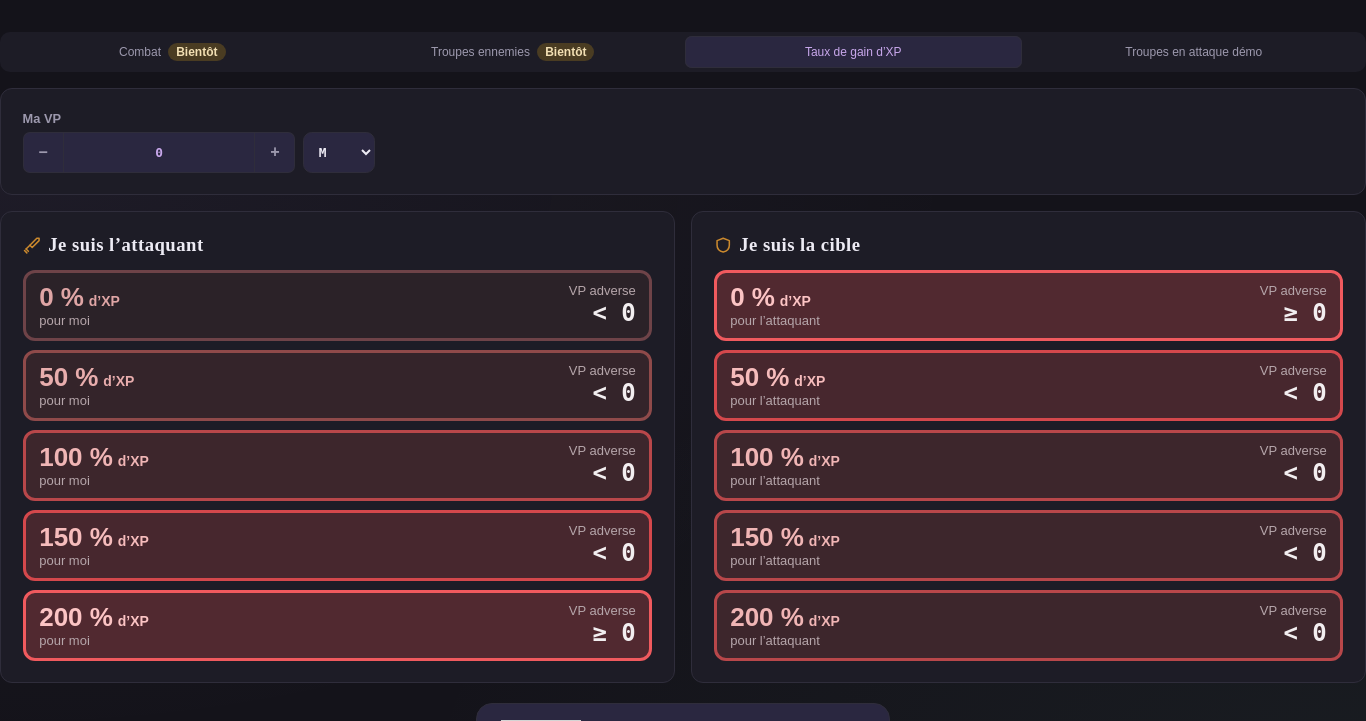
Test: Bloc 117: the demo heading loses what the chip already says › keeps the heading, and the chip's short form, at a phone width
Step 1. Click the tab "Troupes en attaque démo" → (1194,52), box top-left (1026, 36), bottom-right (1362, 68)
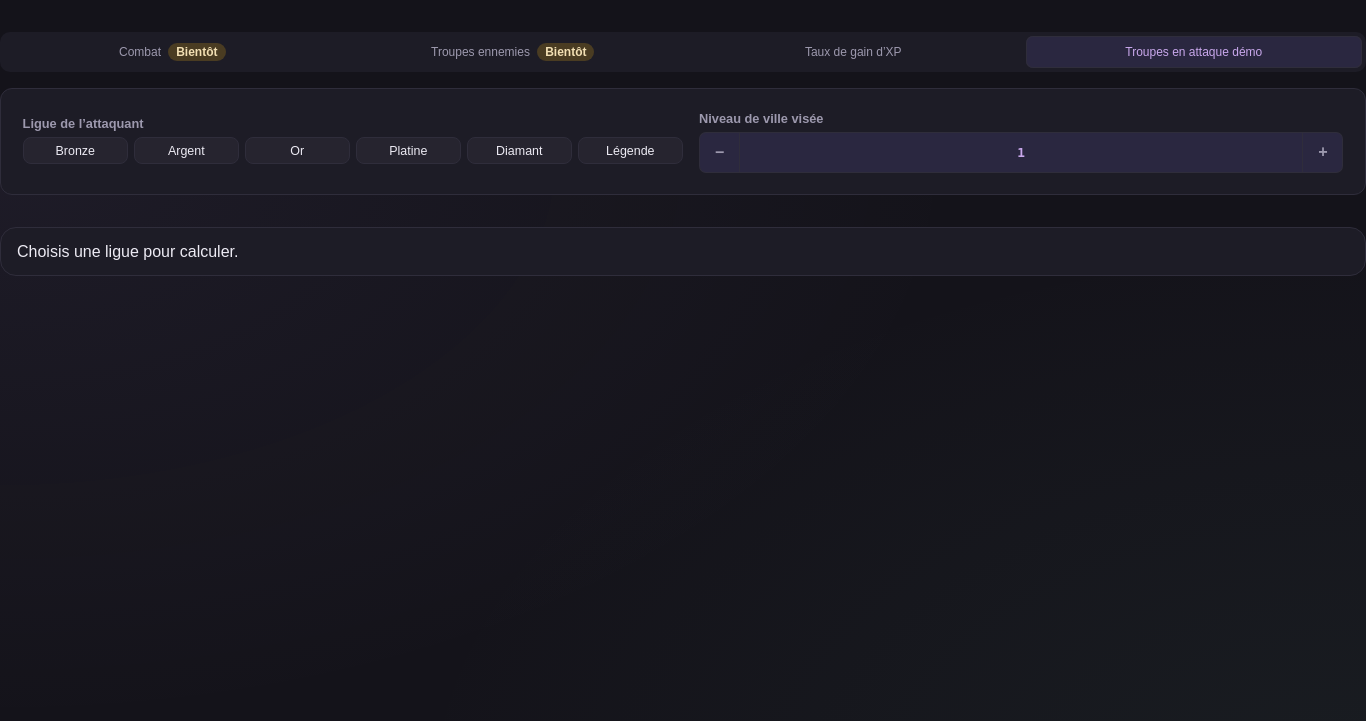
Step 2. Click the button "Diamant" → (519,151), box top-left (467, 137), bottom-right (572, 164)
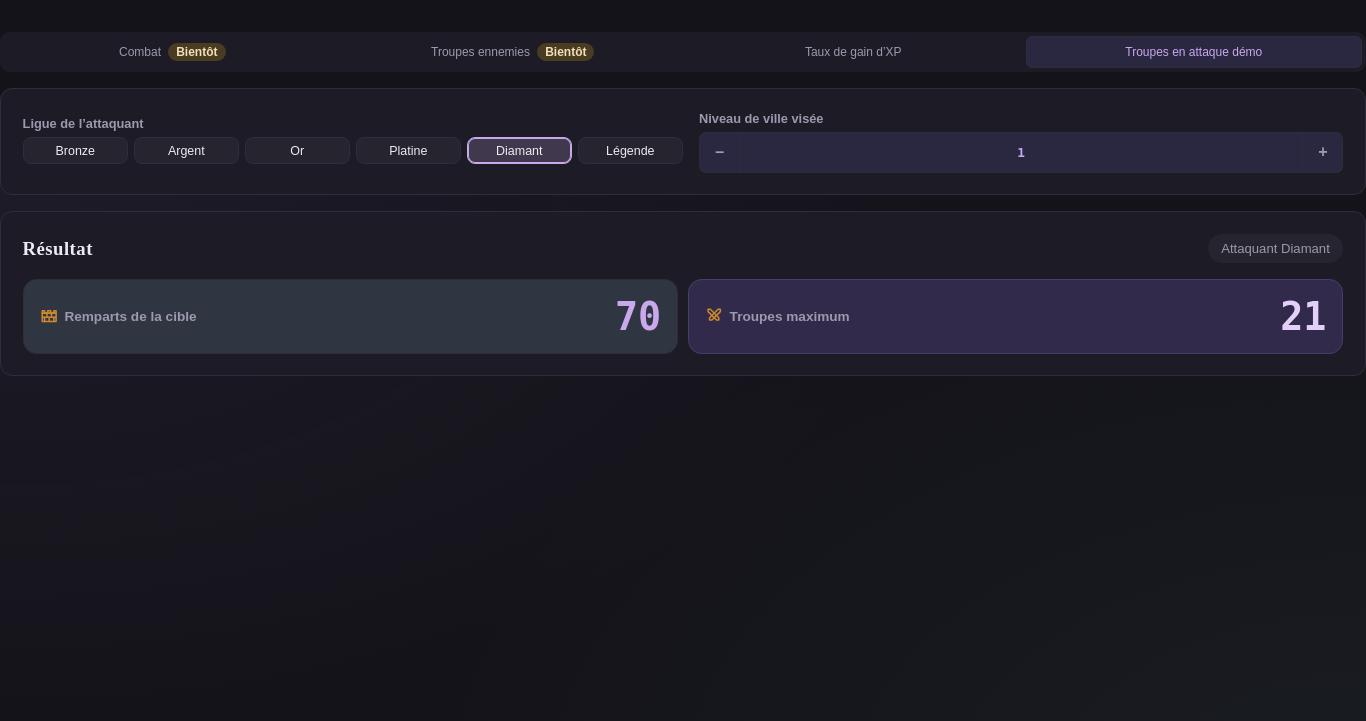
Step 3. Replace the text in the number field named "Niveau de ville visée" with "135" → (1021,152), box top-left (739, 132), bottom-right (1303, 173)
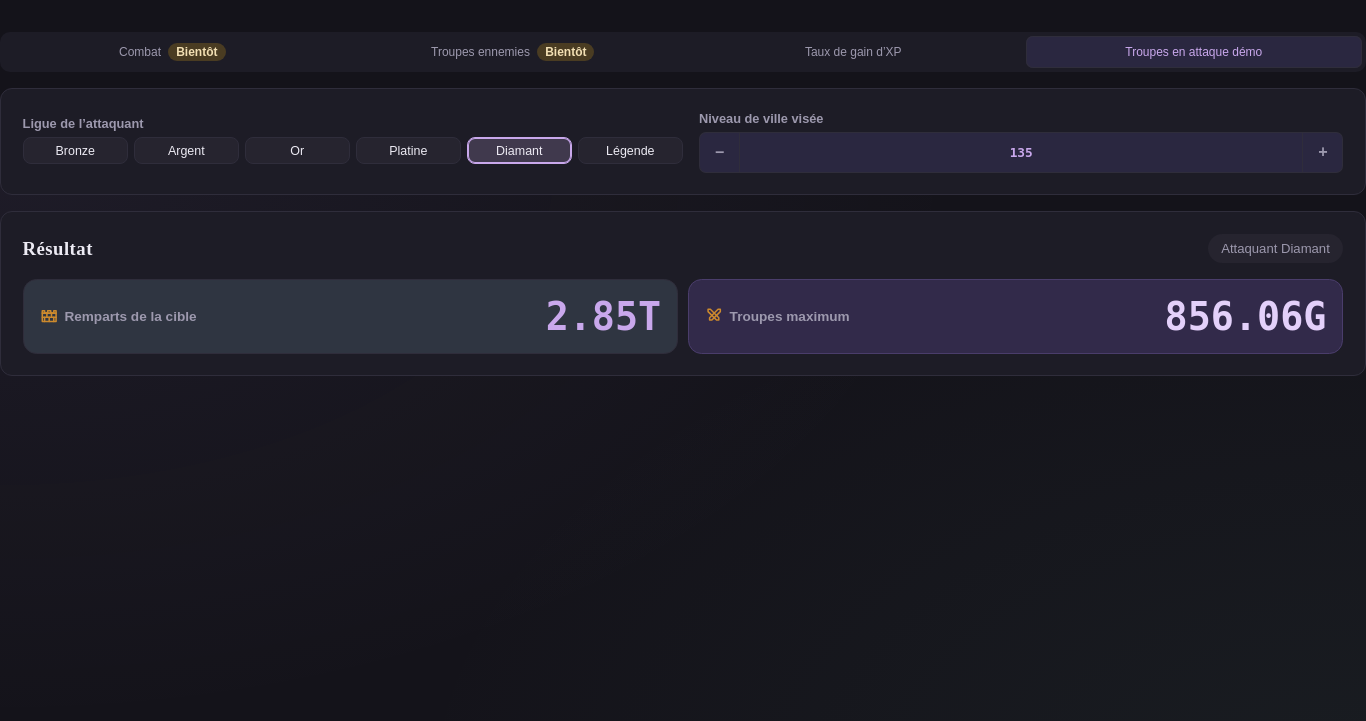
Expected: the heading with class "calculator-heading" reads "Résultat", top-left (23, 238), bottom-right (93, 259)
Expected: the text with class "tool-recall" reads "Attaquant Diamant", top-left (1221, 241), bottom-right (1330, 256)
Expected: the text with test id "demo-troops" reads "856.06G", top-left (1165, 294), bottom-right (1326, 339)
